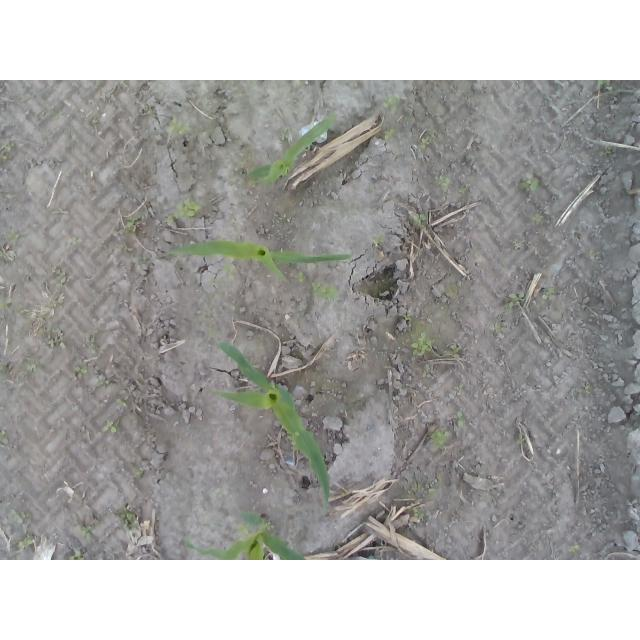Maize: (214, 338, 331, 514), (166, 241, 355, 286), (247, 110, 336, 187), (180, 512, 304, 561)
Weeds: (39, 321, 64, 348), (407, 333, 434, 356), (116, 506, 137, 535), (175, 199, 201, 219), (167, 118, 194, 137), (309, 281, 335, 300), (427, 430, 449, 450), (7, 511, 30, 529), (503, 292, 528, 308), (519, 175, 541, 193), (413, 483, 436, 498), (433, 174, 453, 190), (540, 287, 557, 304), (384, 96, 401, 113), (489, 322, 511, 335), (1, 143, 16, 162), (598, 145, 618, 159), (80, 528, 96, 545), (15, 536, 34, 549), (1, 296, 16, 312), (102, 419, 119, 433), (447, 343, 461, 359), (383, 128, 397, 144), (239, 152, 255, 166), (54, 271, 66, 289), (417, 136, 431, 151), (410, 506, 426, 519), (126, 218, 138, 235), (73, 367, 88, 380), (413, 213, 428, 225), (279, 128, 289, 145), (417, 366, 431, 378), (86, 335, 97, 350), (456, 407, 465, 425), (532, 212, 545, 224), (373, 234, 385, 246), (0, 430, 8, 448), (579, 385, 592, 395), (23, 352, 33, 365), (68, 236, 81, 246), (587, 248, 601, 257), (298, 271, 307, 285), (164, 216, 176, 226), (568, 544, 580, 554), (134, 255, 146, 265), (116, 398, 128, 407), (596, 80, 608, 89), (400, 314, 413, 322), (265, 521, 275, 531), (7, 231, 17, 241), (136, 467, 145, 478), (68, 552, 80, 560), (239, 524, 249, 533), (224, 264, 233, 273), (456, 384, 465, 393), (458, 185, 467, 193), (97, 380, 111, 385), (207, 279, 214, 286), (0, 249, 4, 257)
